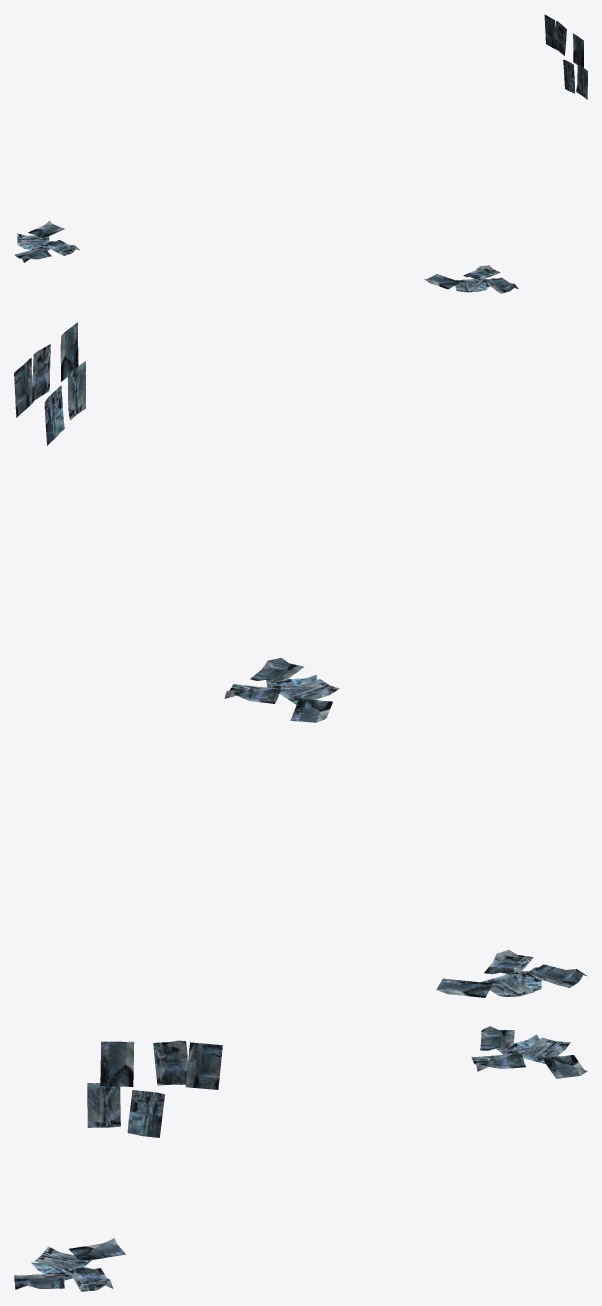
File: futuristic_room_16.obj
3 views of the same model, one above another, from view 1: azimuth 30°, elevation 25°; view 2: azimuth 150°, elevation 25°; view 3: azimuth 270°, elevation 25° (orthographic). The views are drawn at different scales.
Bounding box in the file's own units: 5.12 × 2.31 × 3.76.
